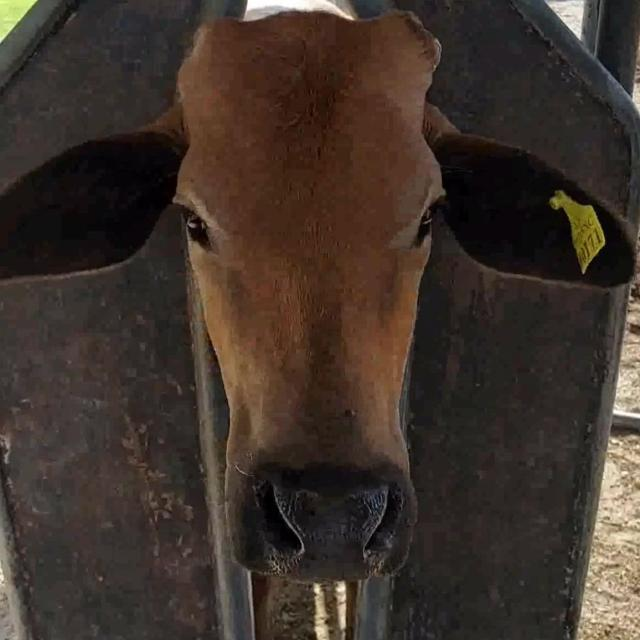cowFace: (180, 14, 443, 580)
